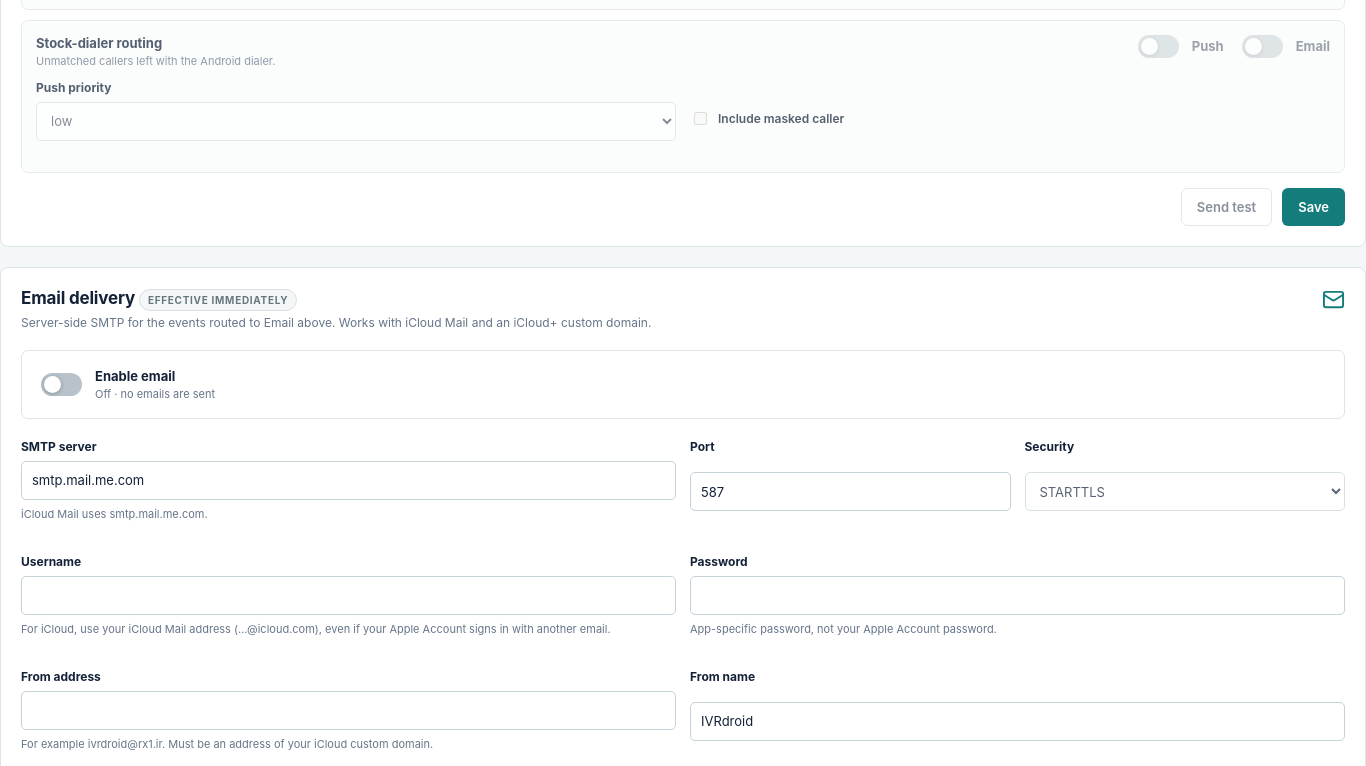
ntfy settings › disables an event's Email channel until email is enabled
(page scrolled)
Click the checkbox labelled "Enable email Off · no emails are sent" at (62, 384), box left=21, top=350, right=1345, bottom=419
(page scrolled)
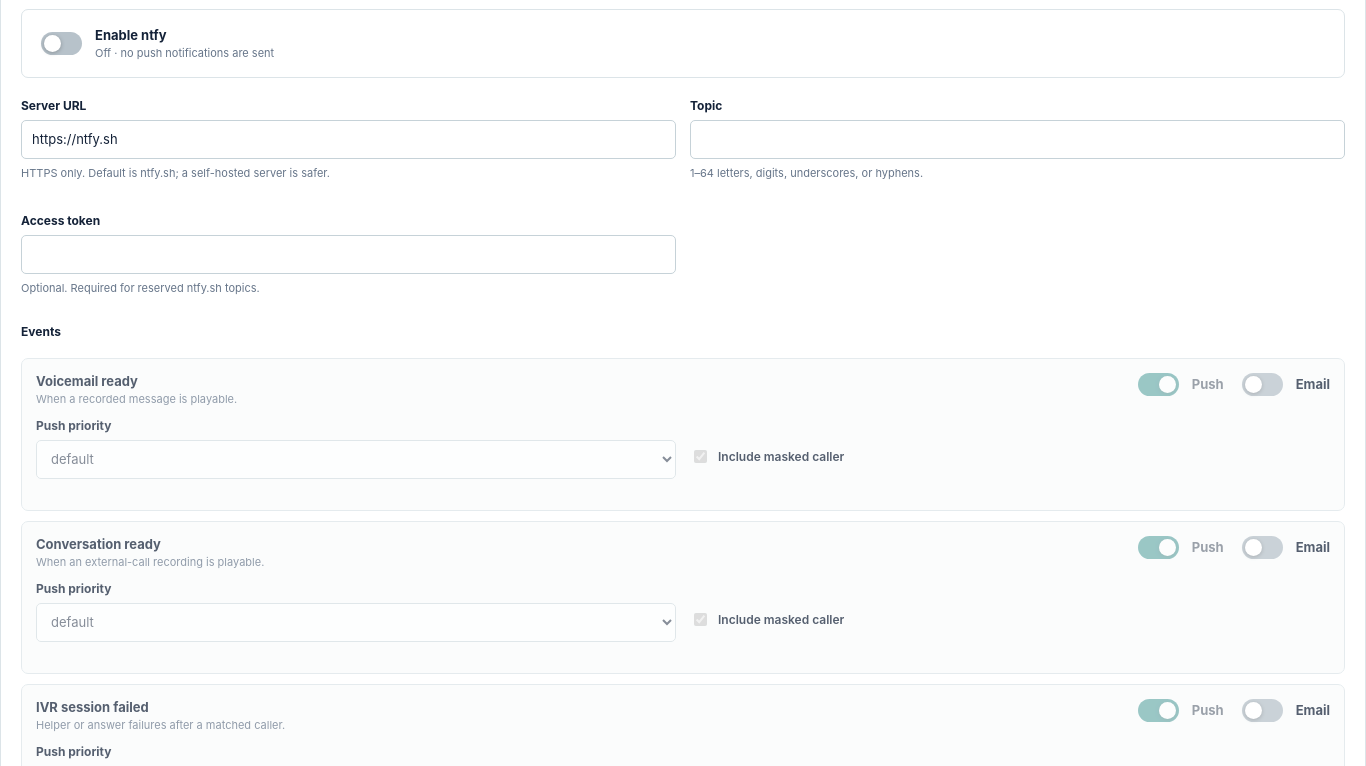
Expected: the checkbox named "Email: Voicemail ready" is enabled, left=1242, top=373, right=1330, bottom=396
